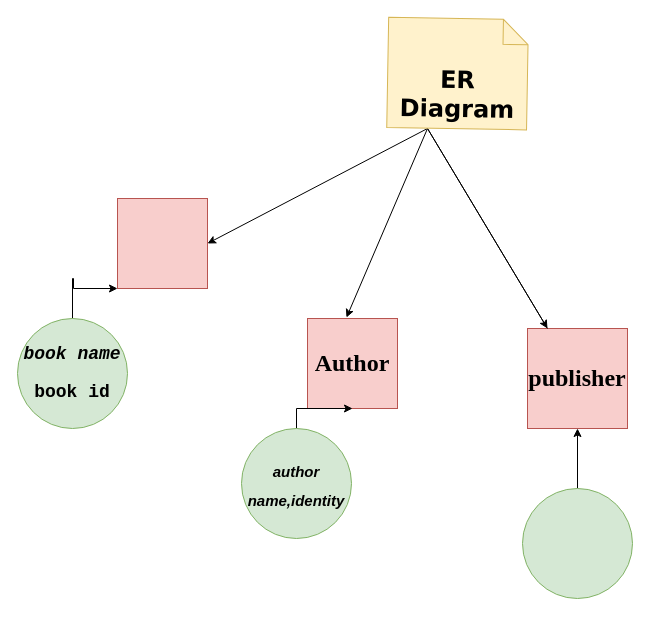
Some shapes in this 650 by 617 pixel diagram are drawn without their labels. Each missing label, with the box of its shape:
Book: (116, 198, 208, 288)
publisher name, pb id: (522, 488, 632, 598)
